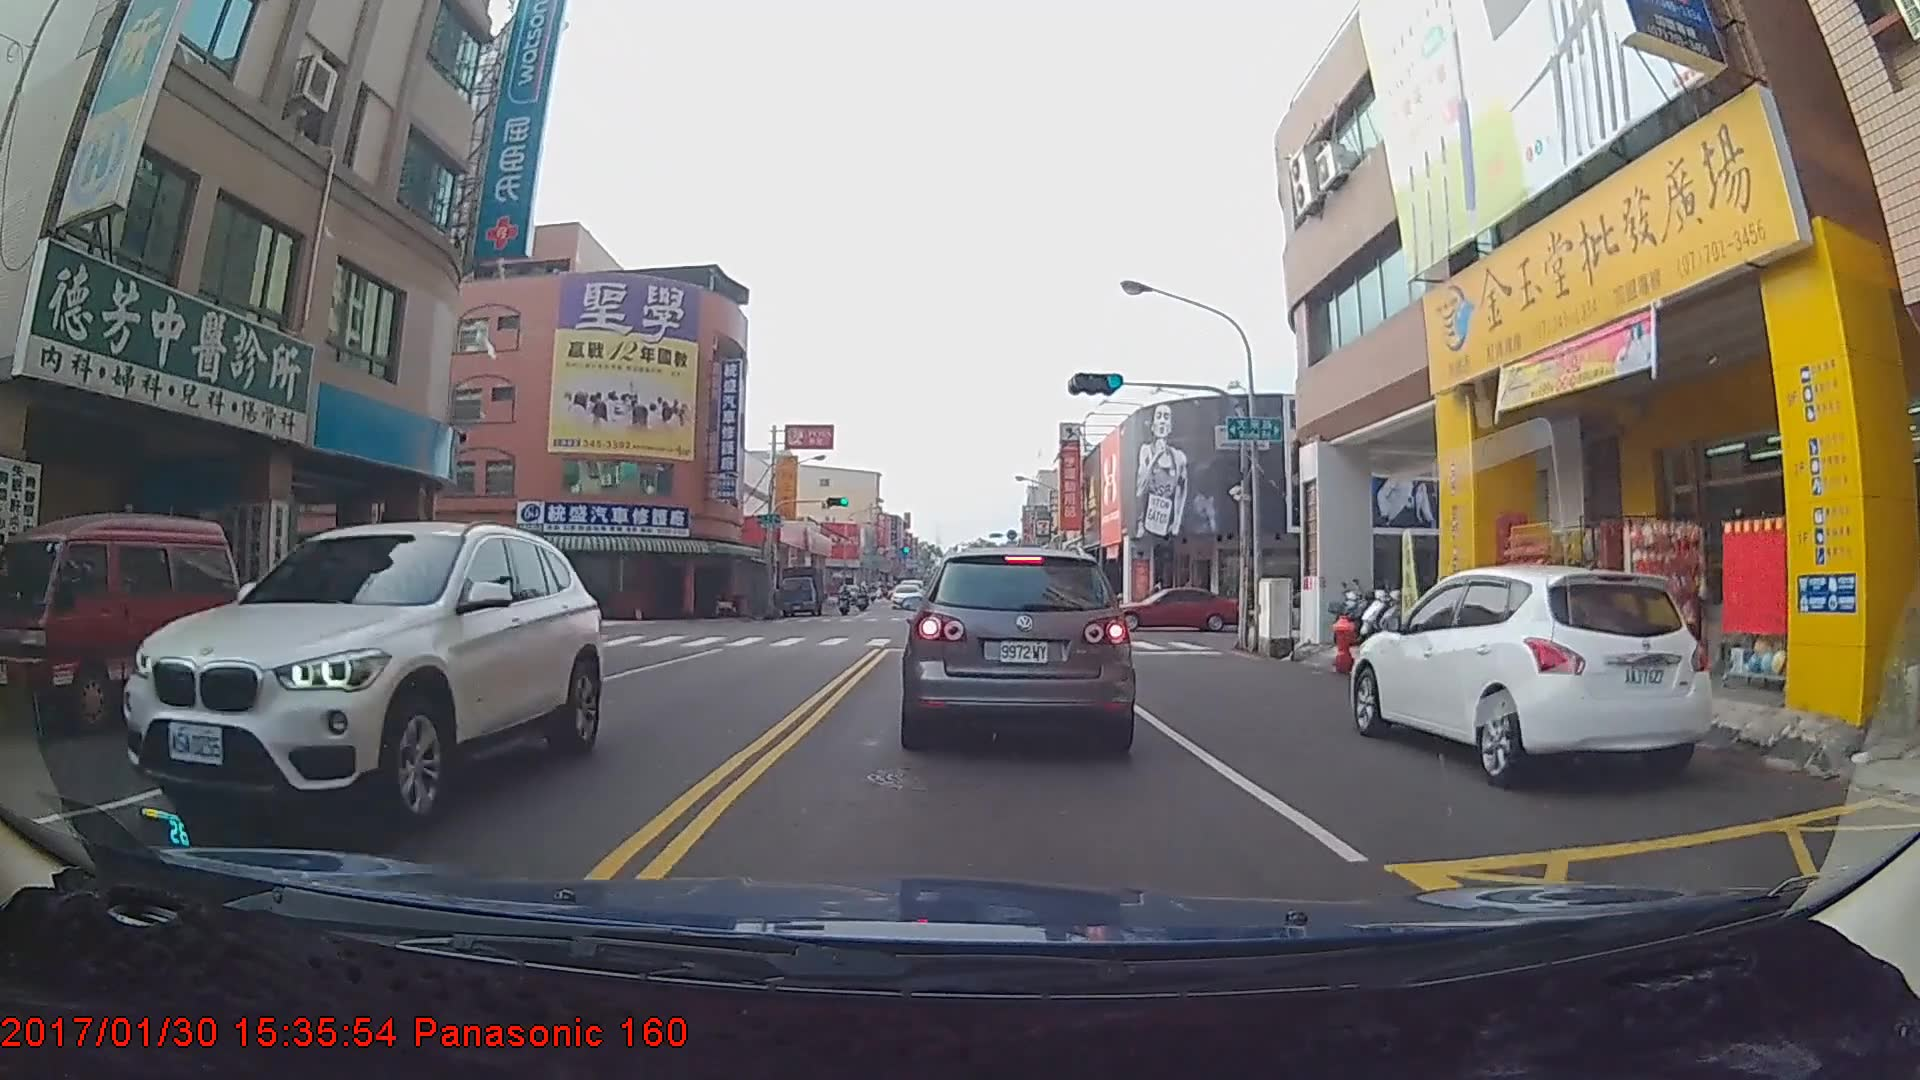rider: (833, 578, 855, 613), (847, 576, 867, 605)
vehicle: (122, 520, 602, 833), (1351, 563, 1714, 788), (0, 513, 242, 732), (901, 541, 1131, 752), (1104, 583, 1236, 634), (774, 563, 826, 615), (890, 580, 924, 608)
